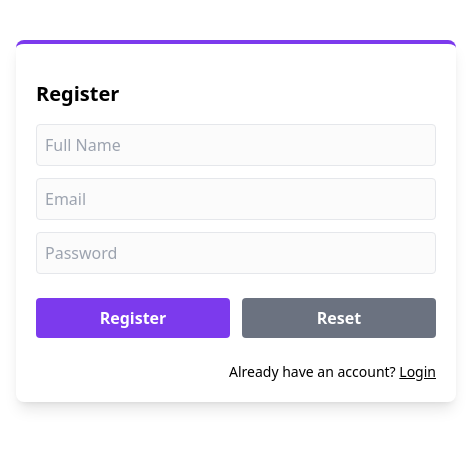
Scenario: RegisterForm Component › displays error message if user already exists
Step 1. Type "Jitendra" into the field with placeholder "Full Name" → (236, 145), box [36,124,436,166]
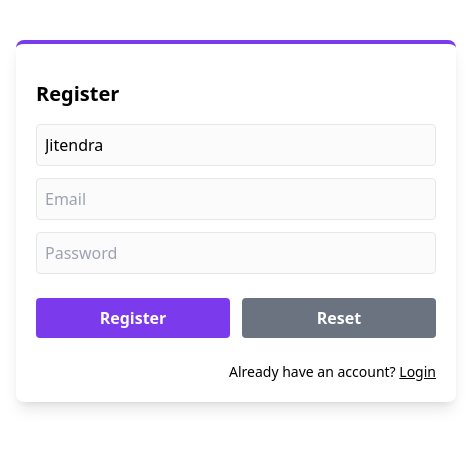
Step 2. Type "admin@gmail.com" into the field with placeholder "Email" → (236, 199), box [36,178,436,220]
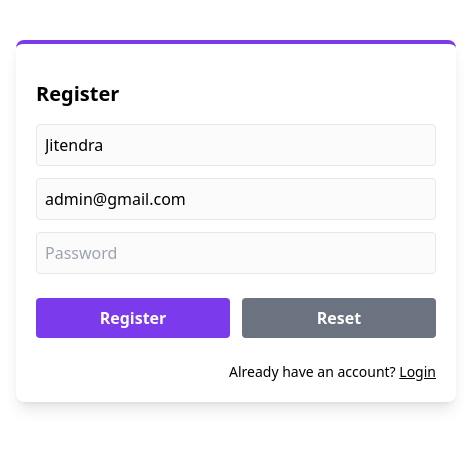
Step 3. Type "admin@gmail.com" into the password field with placeholder "Password" → (236, 253), box [36,232,436,274]
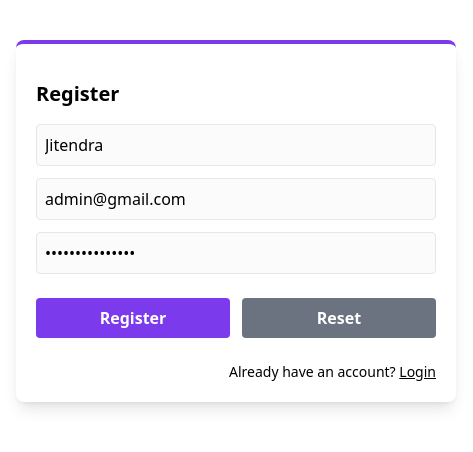
Step 4. Click the button "Register" → (133, 318), box [36,298,230,338]
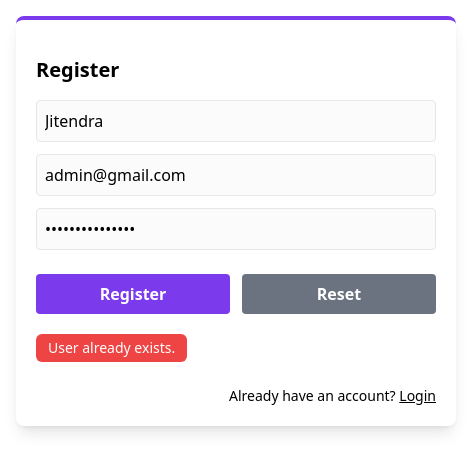
Check: the text "User already exists." is shown, box [36,334,187,362]
